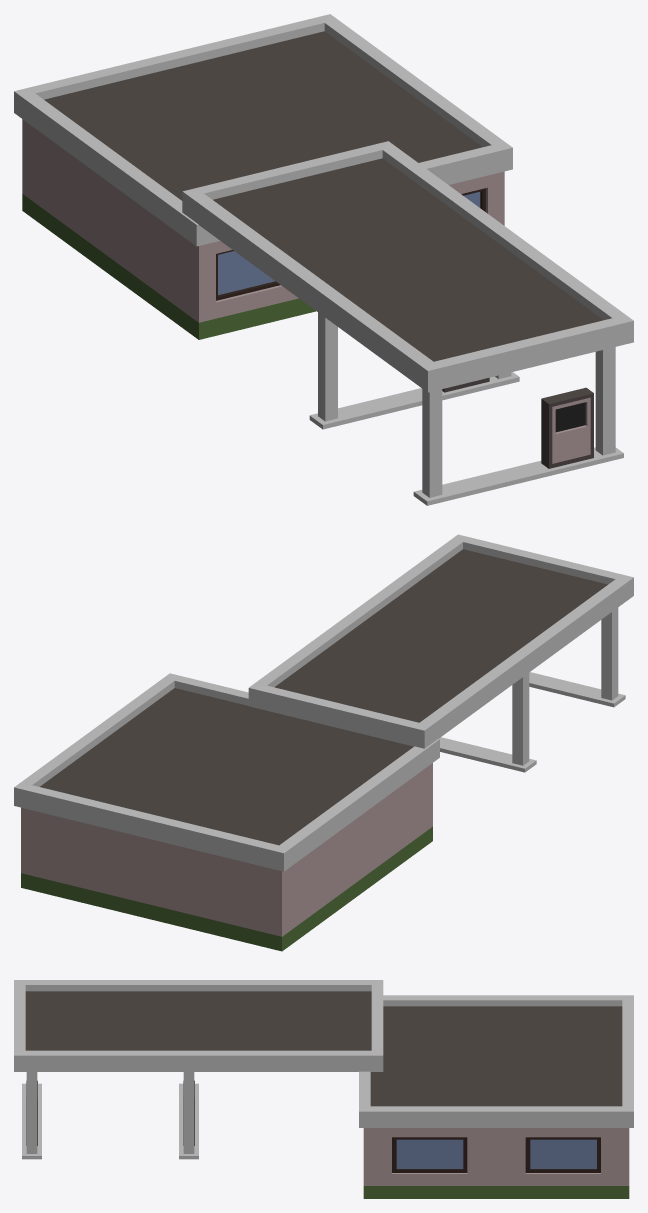
Rendered from GasStation_01.fbx.
3 views of the same model, one above another, from view 1: azimuth 30°, elevation 25°; view 2: azimuth 150°, elevation 25°; view 3: azimuth 270°, elevation 25° (orthographic). The views are drawn at different scales.
Parts seen in each view (by area): view 1: GasStation_01; view 2: GasStation_01; view 3: GasStation_01.
Boxes of the visible parts, x1,y1,x2,y2 form: GasStation_01: (14,14,633,505); GasStation_01: (14,534,633,951); GasStation_01: (14,980,633,1198).
Bounding box in the file's own units: 8.59 × 3.63 × 19.37.
